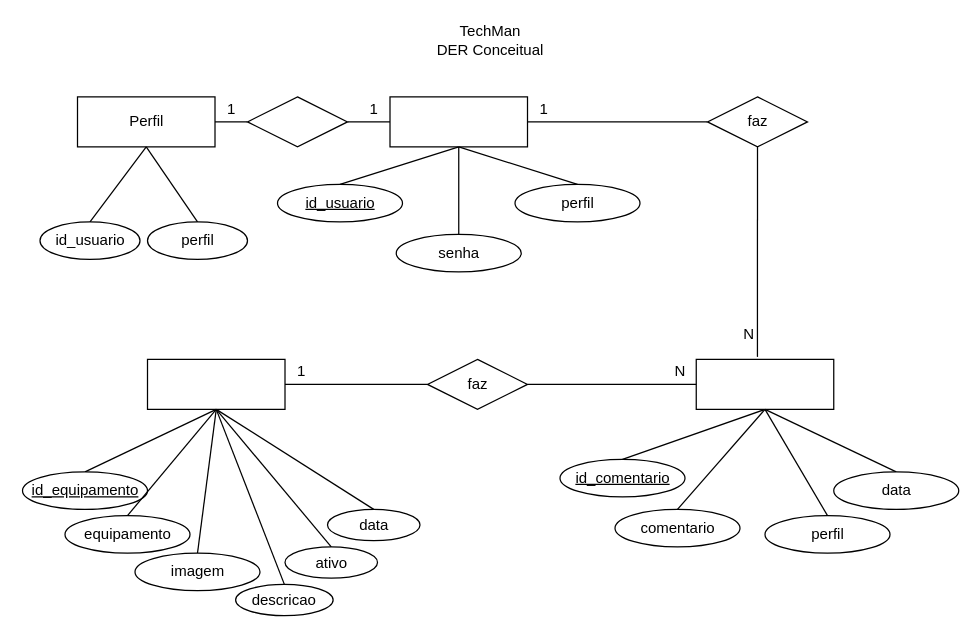
Some shapes in this 980 by 638 pixel diagram are drawn without their labels. The shapes that lost their labels are listed below. From the top down, each one's centre as x and y in pixels, then its label:
At point (297, 121): "possui".
At point (458, 121): "Usuários".
At point (215, 383): "Equipamentos".
At point (764, 383): "Comentários".
